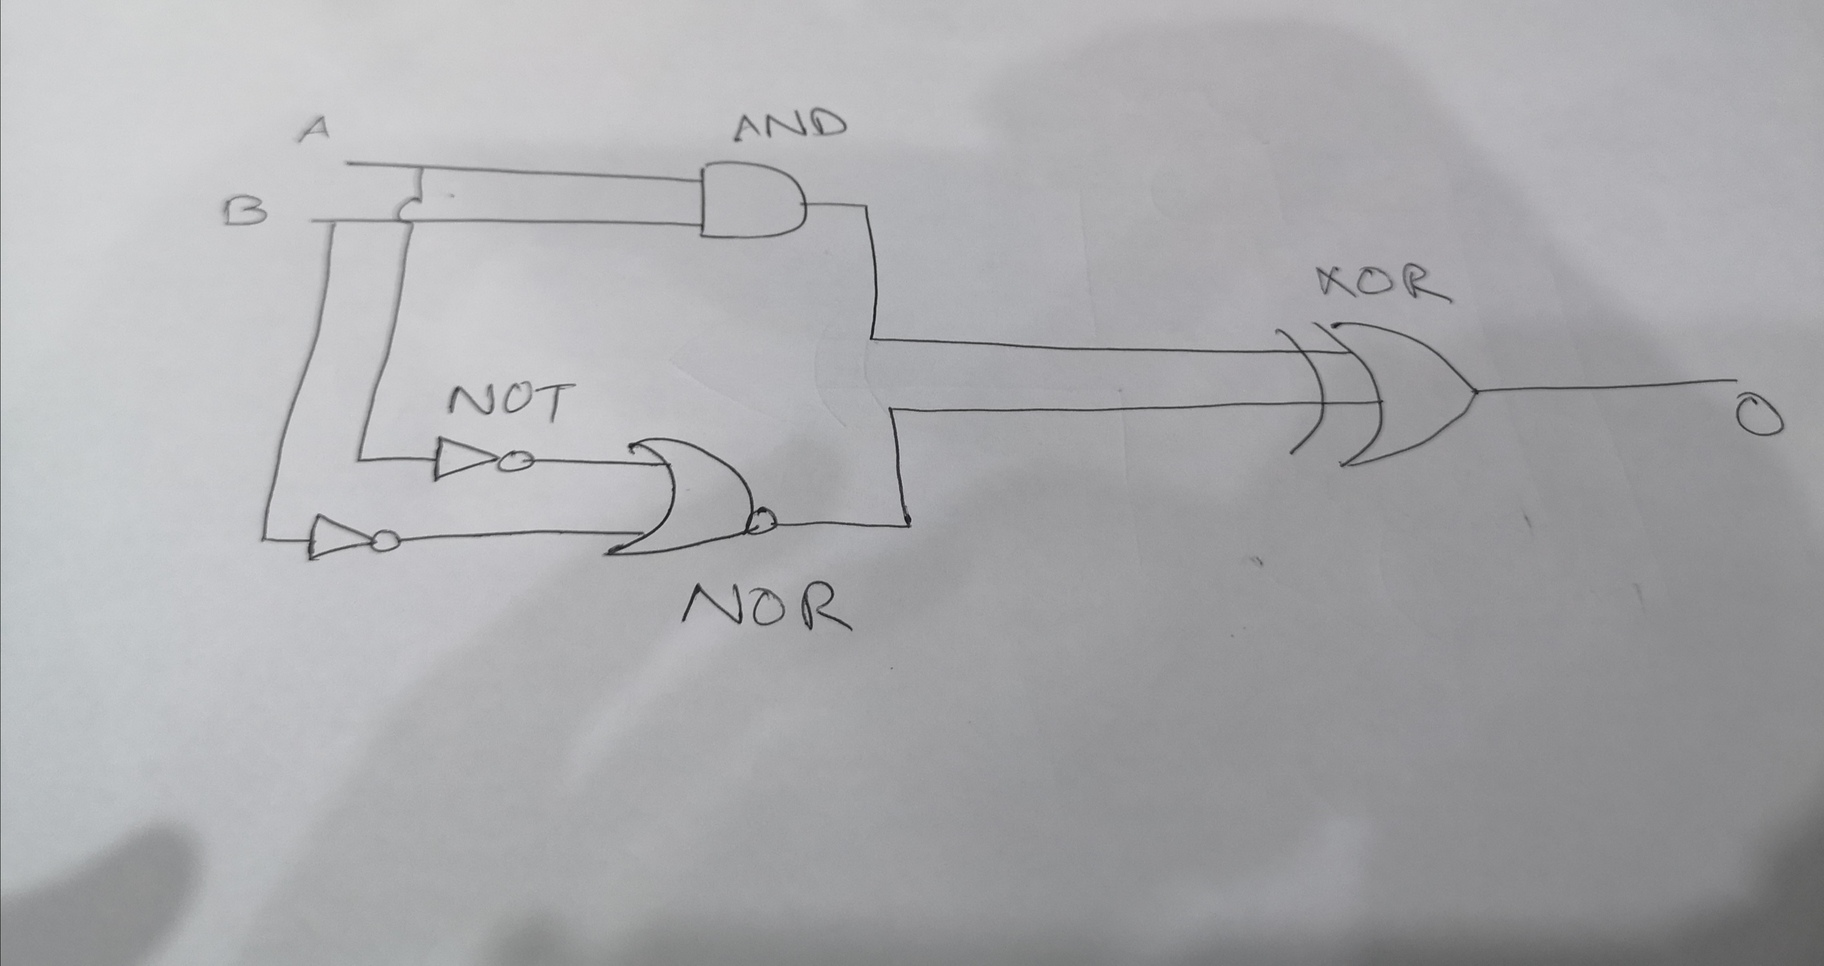and: (692, 159, 814, 242)
crossover: (393, 193, 428, 229)
junction: (887, 505, 923, 541), (853, 195, 876, 219), (882, 397, 905, 418), (255, 528, 274, 549), (861, 330, 881, 350), (413, 158, 429, 177), (351, 452, 369, 469), (326, 213, 343, 232)
nor: (594, 431, 787, 568)
not: (303, 508, 410, 568), (427, 431, 542, 486)
terminal: (335, 152, 359, 174), (1723, 368, 1747, 390), (306, 210, 321, 228)
text: (674, 574, 857, 637), (1302, 256, 1454, 308), (442, 375, 581, 431), (730, 104, 854, 145), (1734, 388, 1788, 441), (217, 191, 270, 229), (293, 112, 331, 146)
xor: (1263, 314, 1483, 478)
